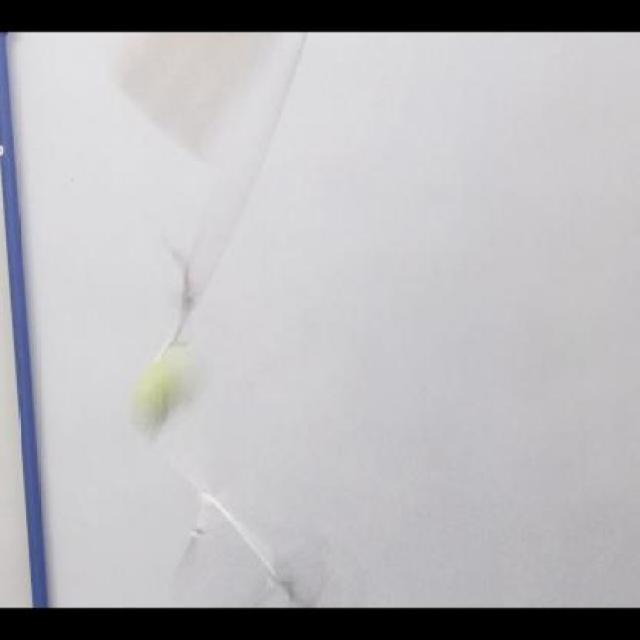baseball: (126, 346, 192, 437)
